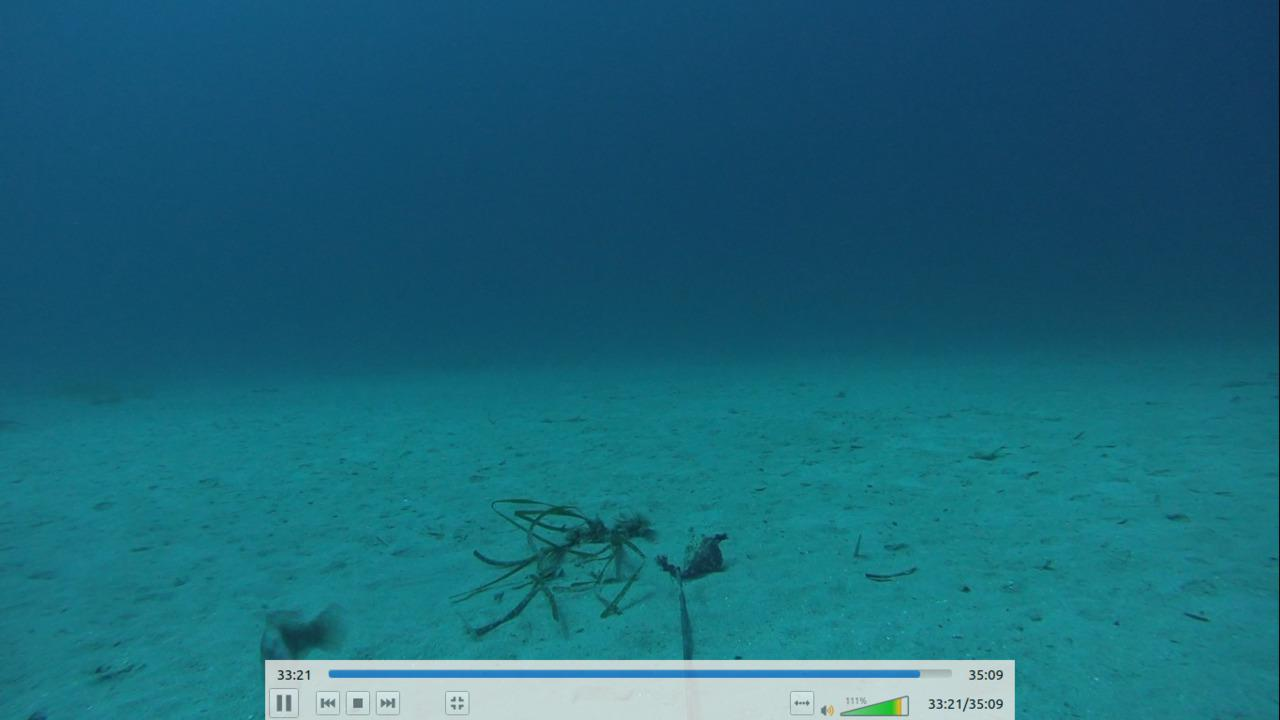raor: (241, 593, 345, 655)
